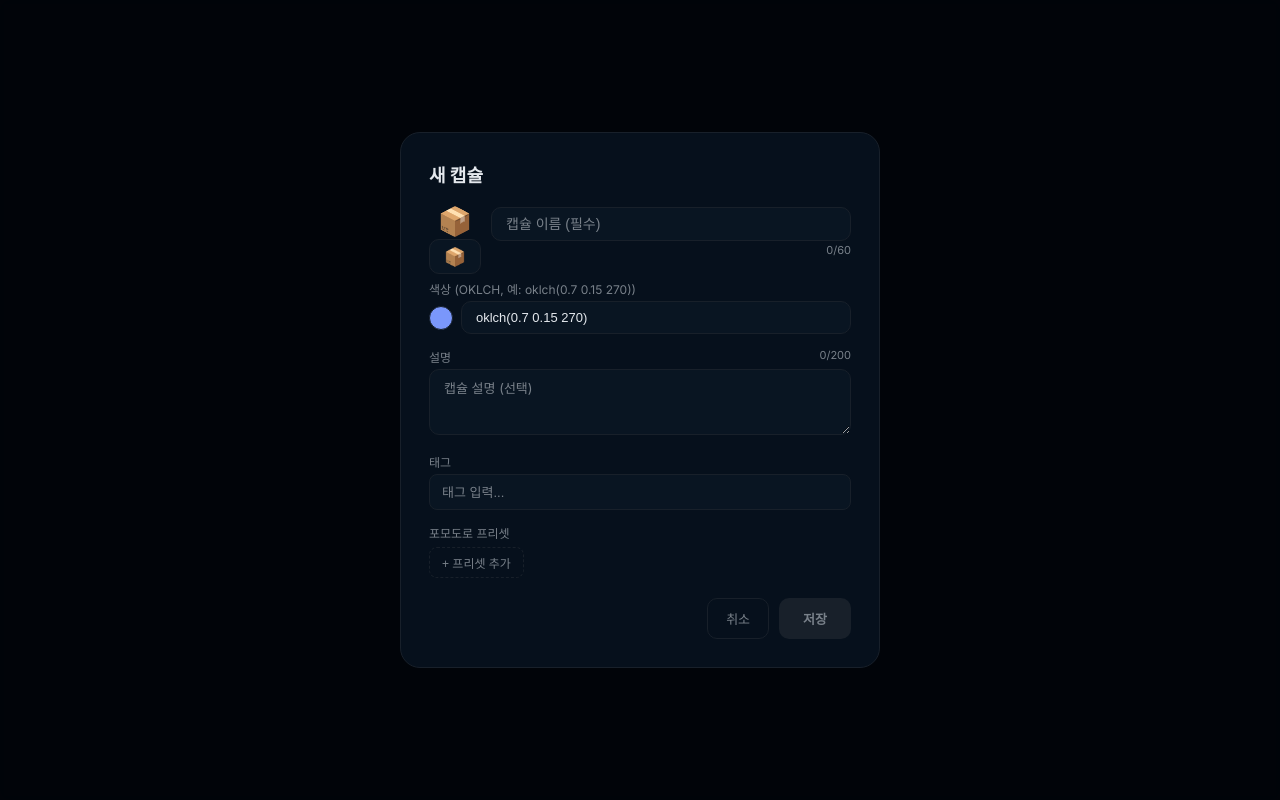
Test: CapsuleEditModal › AC-016: 이모지 피커 › 이모지 입력 필드에 값이 변경되면 미리보기가 즉시 반영된다
Type "🚀" into the field with test id "capsule-emoji-input" at (455, 256), box [429, 239, 481, 274]
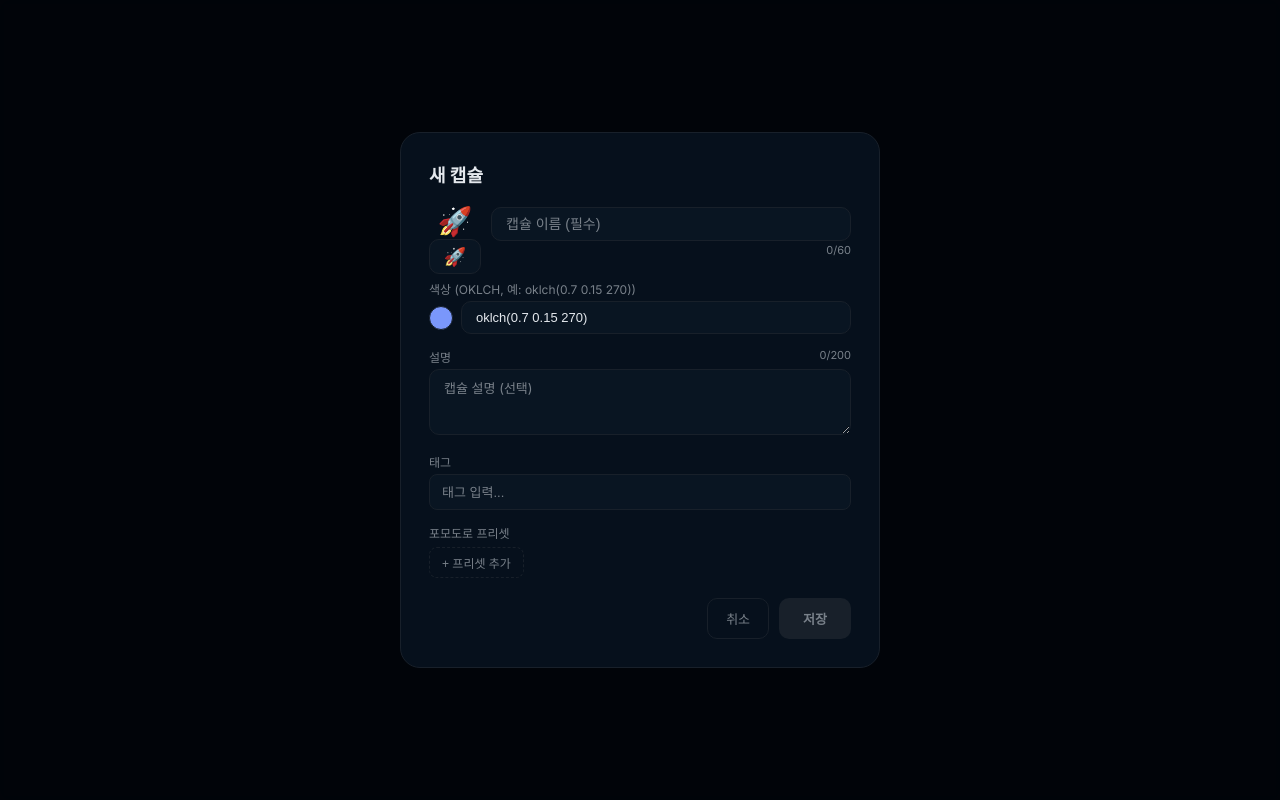
Expected: the text with test id "capsule-emoji-preview" reads "🚀", [438, 204, 472, 238]
